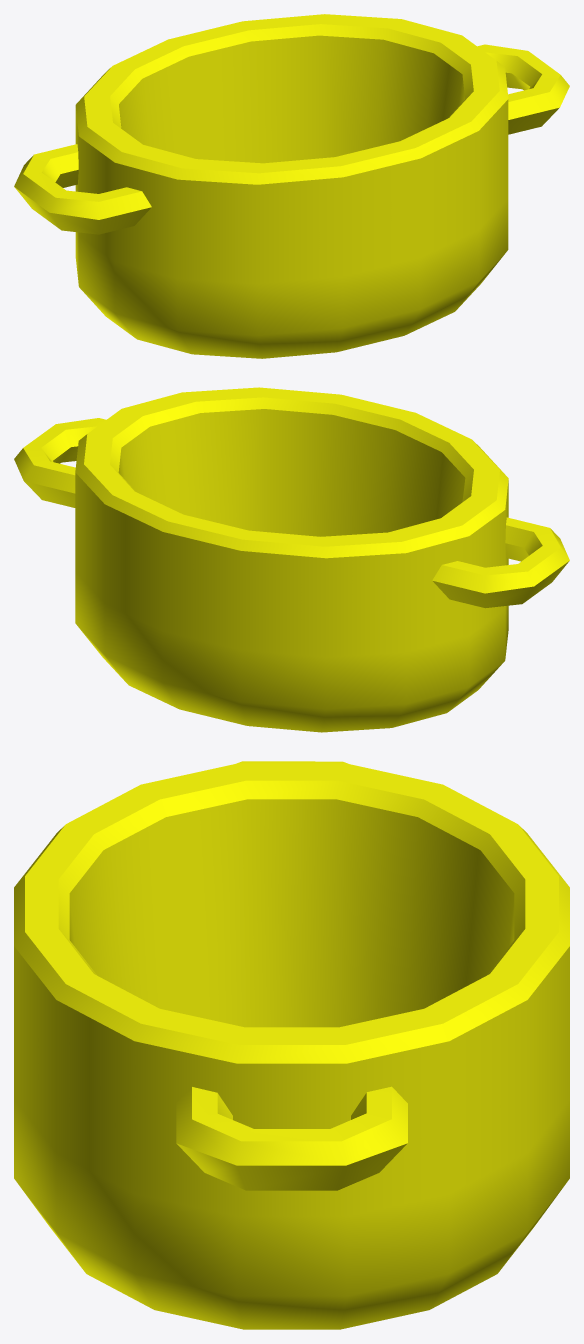
File: kaykit-pot-large.glb
The picture shows the model from 3 angles, top to bottom: view 1: azimuth 30°, elevation 25°; view 2: azimuth 150°, elevation 25°; view 3: azimuth 270°, elevation 25°; orthographic projection. The views are drawn at different scales.
Visible parts, largest first — view 1: pot_large; view 2: pot_large; view 3: pot_large.
Part boxes in pixels (x1,y1,x2,y2): pot_large: (14, 14, 569, 358); pot_large: (14, 387, 569, 732); pot_large: (14, 761, 569, 1329).
Bounding box in the file's own units: 2 × 0.7501 × 1.2.
